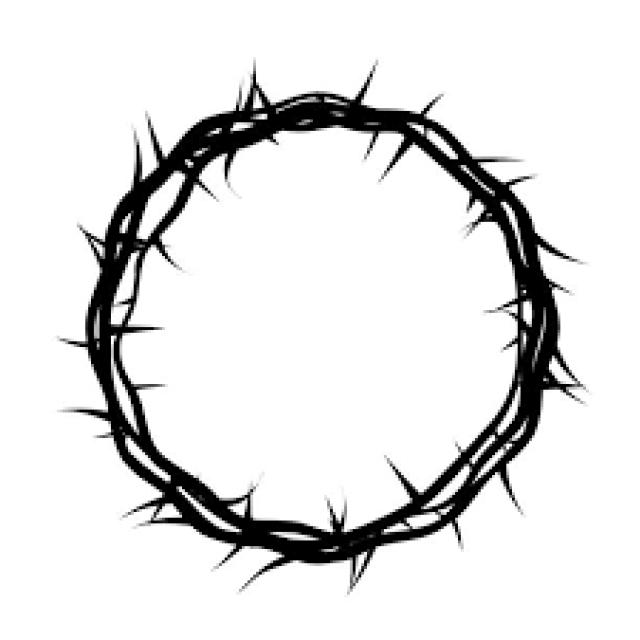crown: (53, 55, 602, 637)
